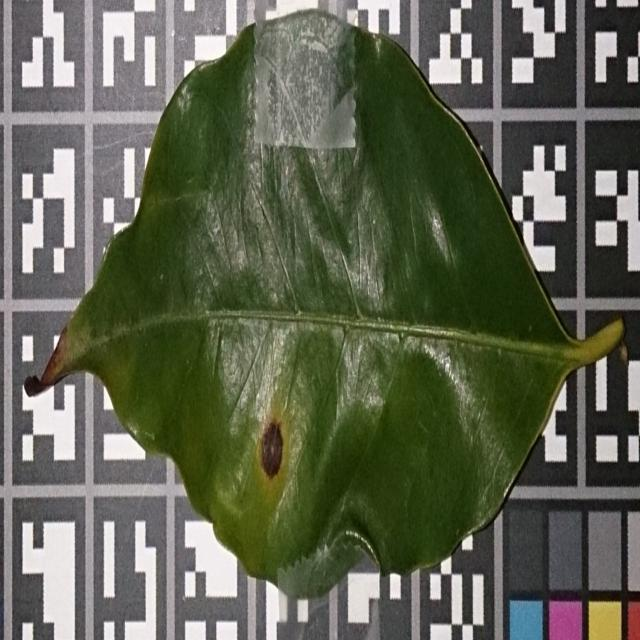Enfermedad-Mancha-de-hierro: (25, 12, 625, 603)
